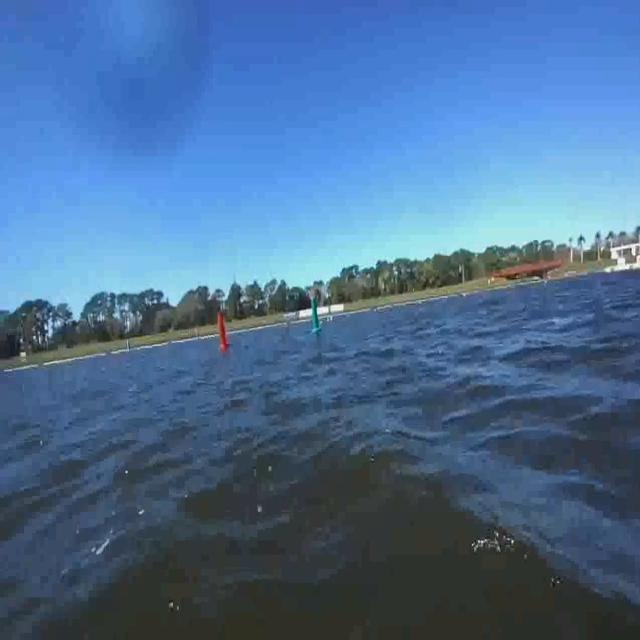green-column-buoy: (307, 291, 322, 335)
red-column-buoy: (212, 298, 232, 360)
